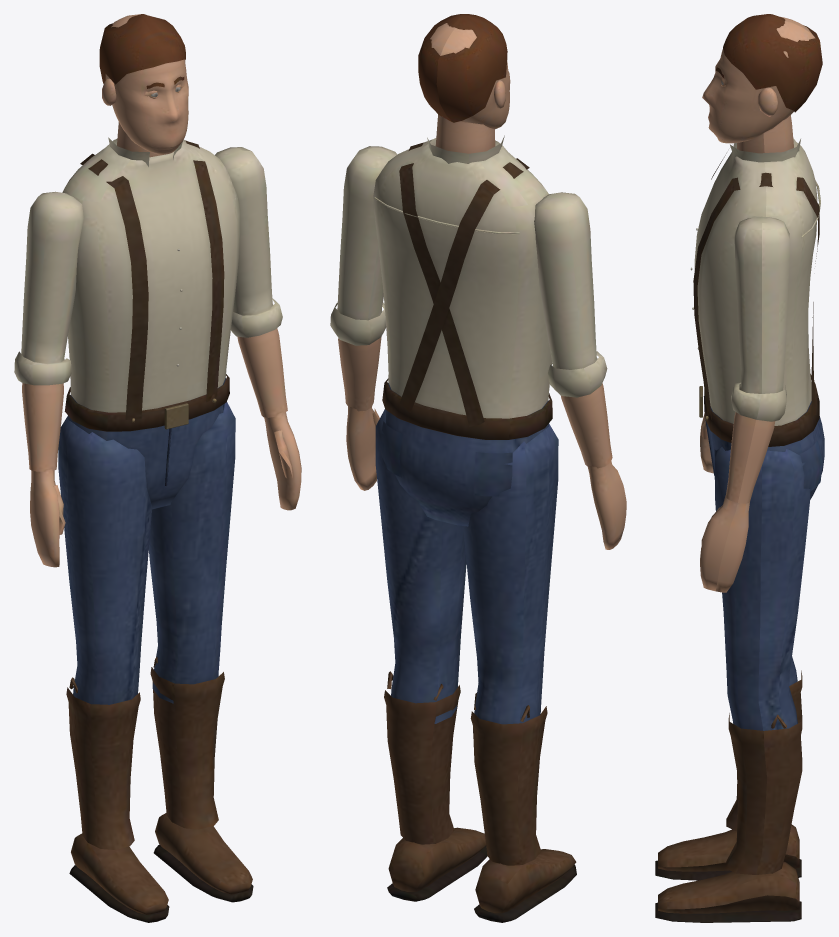
The model's file is b_person_a.glb.
3 views of the same model, side by side, from view 1: azimuth 30°, elevation 25°; view 2: azimuth 150°, elevation 25°; view 3: azimuth 270°, elevation 25° (orthographic). The views are drawn at different scales.
Visible parts, largest first — view 1: body, legR, legL, armR, armL; view 2: body, legR, legL, armR, armL; view 3: body, legL, armL, legR, armR.
Part boxes in pixels (x1,y1,x2,y2): body: (62,14,240,509); legR: (58,416,169,922); legL: (148,402,253,902); armR: (14,191,83,567); armL: (215,147,301,510); body: (373,14,552,526); legR: (463,423,576,922); legL: (375,409,487,901); armR: (534,192,626,549); armL: (330,146,397,490); body: (690,14,824,499); legL: (655,447,810,922); armL: (700,216,789,592); legR: (655,656,802,880); armR: (700,413,713,473).
Size of the model in its own units: 0.578 by 1.82 by 0.3185.
Materials: 1 (1 with a texture image).
